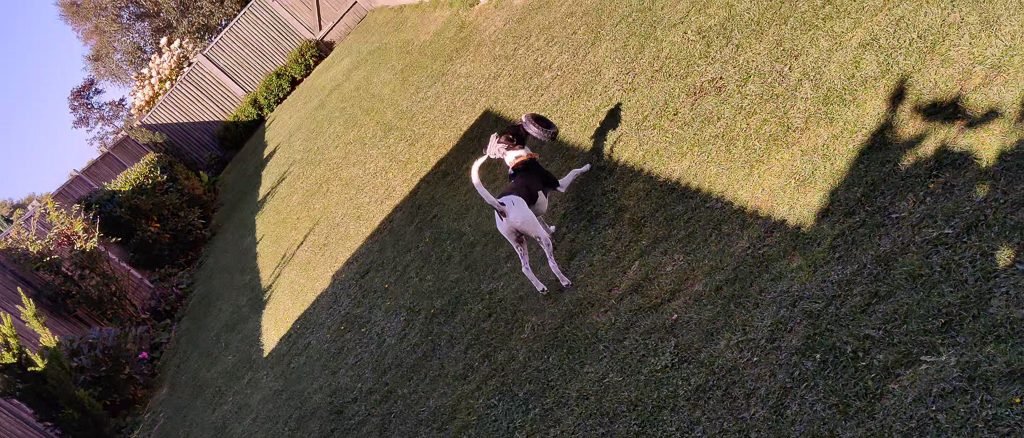Dog: (463, 120, 602, 301)
